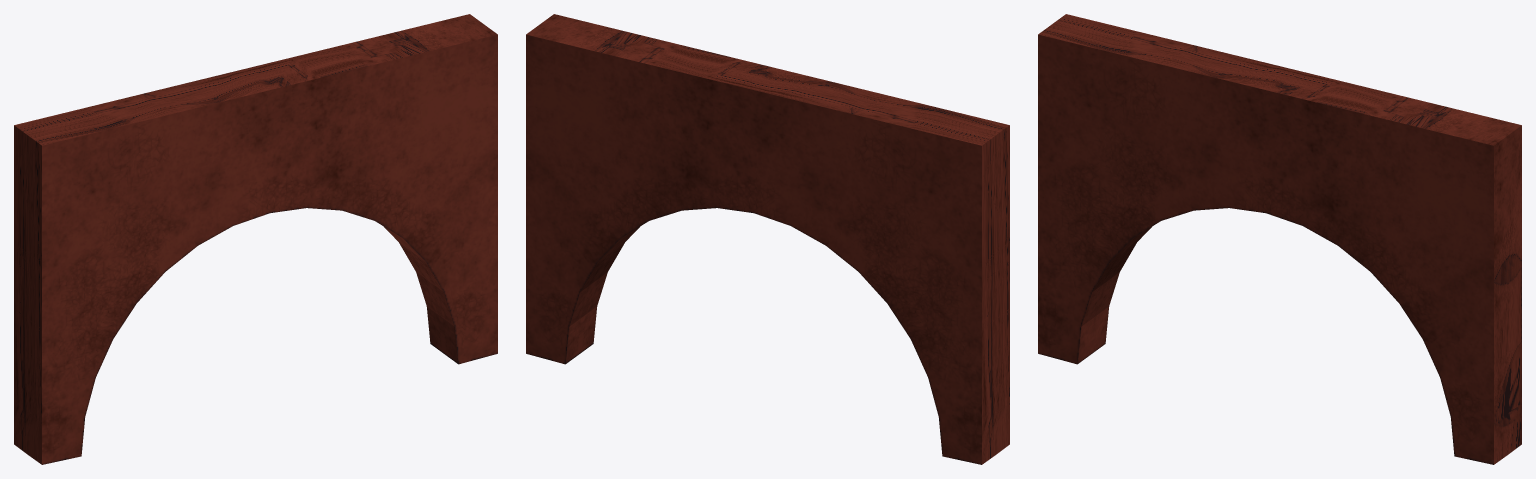
Rendered from Arch fracture seperate.fbx.
The picture shows the model from 3 angles, left to right: view 1: azimuth 30°, elevation 25°; view 2: azimuth 150°, elevation 25°; view 3: azimuth 330°, elevation 25°; orthographic projection.
Visible parts, largest first — view 1: Object_Part_7, Object_Part_12, Object_Part_17, Object_Part_16, Object_Part_18, Object_Part_2, Object_Part_5, Object_Part_19, Object_Part_1, Object_Part_11, Object_Part_14, Object_Part_9 (+8 smaller); view 2: Object_Part_7, Object_Part_12, Object_Part_15, Object_Part_18, Object_Part_14, Object_Part_1, Object_Part_20, Object_Part_9, Object_Part_10, Object_Part_19, Object_Part_16, Object_Part_11 (+7 smaller); view 3: Object_Part_7, Object_Part_17, Object_Part_12, Object_Part_1, Object_Part_2, Object_Part_16, Object_Part_18, Object_Part_5, Object_Part_19, Object_Part_11, Object_Part_14, Object_Part_9 (+8 smaller).
Part boxes in pixels (<box>): Object_Part_7: <box>382,169,497,364</box>; Object_Part_12: <box>14,246,168,371</box>; Object_Part_17: <box>185,72,276,230</box>; Object_Part_16: <box>14,113,106,254</box>; Object_Part_18: <box>14,309,98,464</box>; Object_Part_2: <box>396,30,484,170</box>; Object_Part_5: <box>271,111,396,192</box>; Object_Part_19: <box>255,43,380,120</box>; Object_Part_1: <box>408,14,497,171</box>; Object_Part_11: <box>102,159,167,261</box>; Object_Part_14: <box>349,29,416,146</box>; Object_Part_9: <box>161,154,223,268</box>; Object_Part_7: <box>526,172,639,364</box>; Object_Part_12: <box>855,241,1009,371</box>; Object_Part_15: <box>901,143,1009,266</box>; Object_Part_18: <box>925,309,1009,464</box>; Object_Part_14: <box>588,34,680,167</box>; Object_Part_1: <box>526,14,591,175</box>; Object_Part_20: <box>677,73,773,213</box>; Object_Part_9: <box>766,128,862,268</box>; Object_Part_10: <box>544,140,661,239</box>; Object_Part_19: <box>647,42,776,126</box>; Object_Part_16: <box>932,109,1009,233</box>; Object_Part_11: <box>857,160,910,262</box>; Object_Part_7: <box>1377,255,1521,464</box>; Object_Part_17: <box>1181,63,1281,211</box>; Object_Part_12: <box>1038,150,1164,287</box>; Object_Part_1: <box>1456,110,1521,282</box>; Object_Part_2: <box>1391,110,1480,273</box>; Object_Part_16: <box>1038,14,1114,143</box>; Object_Part_18: <box>1038,218,1122,364</box>; Object_Part_5: <box>1267,143,1392,235</box>; Object_Part_19: <box>1271,73,1400,152</box>; Object_Part_11: <box>1098,104,1163,208</box>; Object_Part_14: <box>1350,96,1458,208</box>; Object_Part_9: <box>1156,112,1219,219</box>.
Bounding box in the file's own units: 10.8 × 7.25 × 1.15.
